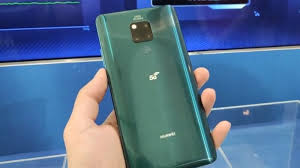huawei: (89, 4, 217, 168)
